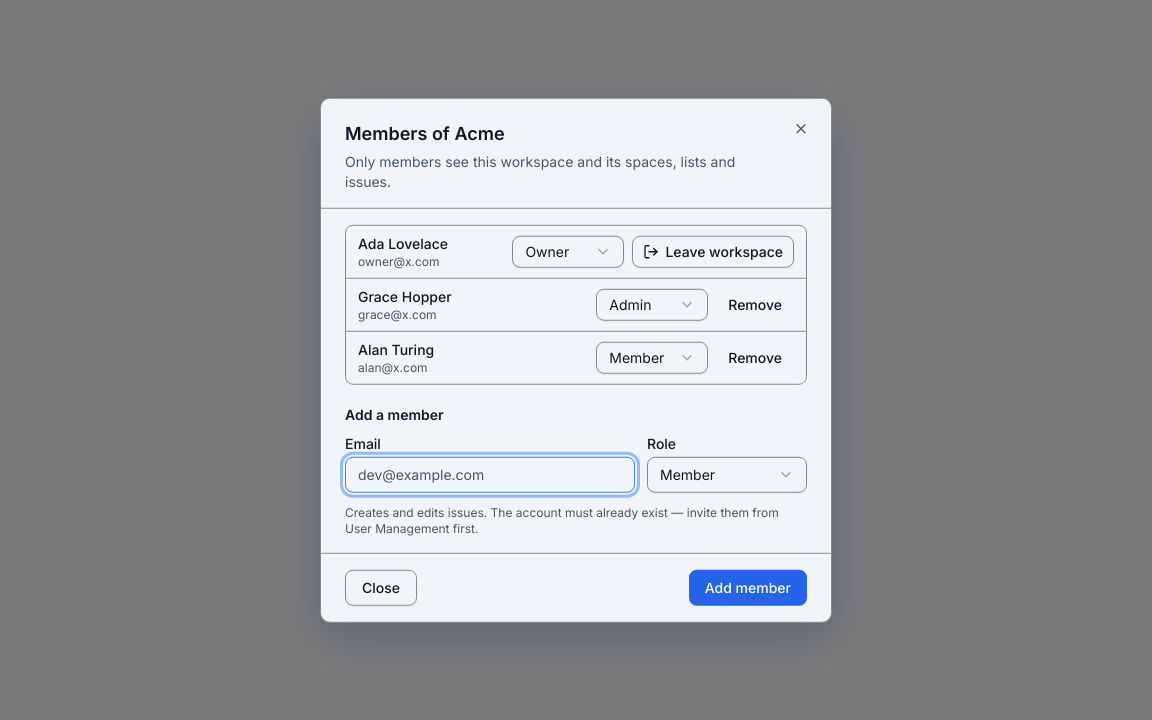
Test case: MembersDialog changing members › removes a member only after a confirm, and then puts focus on the list
Click the button with aria-label "Remove Alan Turing": (755, 357) [716,341,794,373]
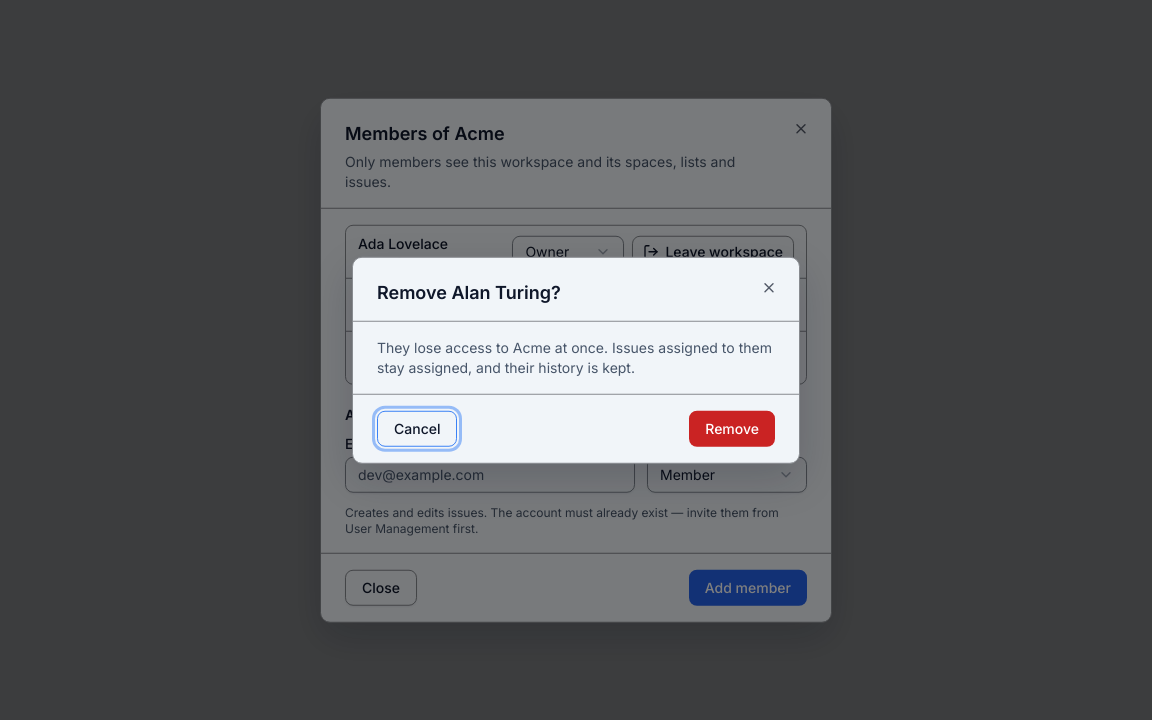
Check: the dialog "Remove Alan Turing?" shows "Issues assigned to them stay assigned, and their history is kept.", box [377,338,772,375]
Click the button "Cancel": (417, 428) [377,410,458,446]
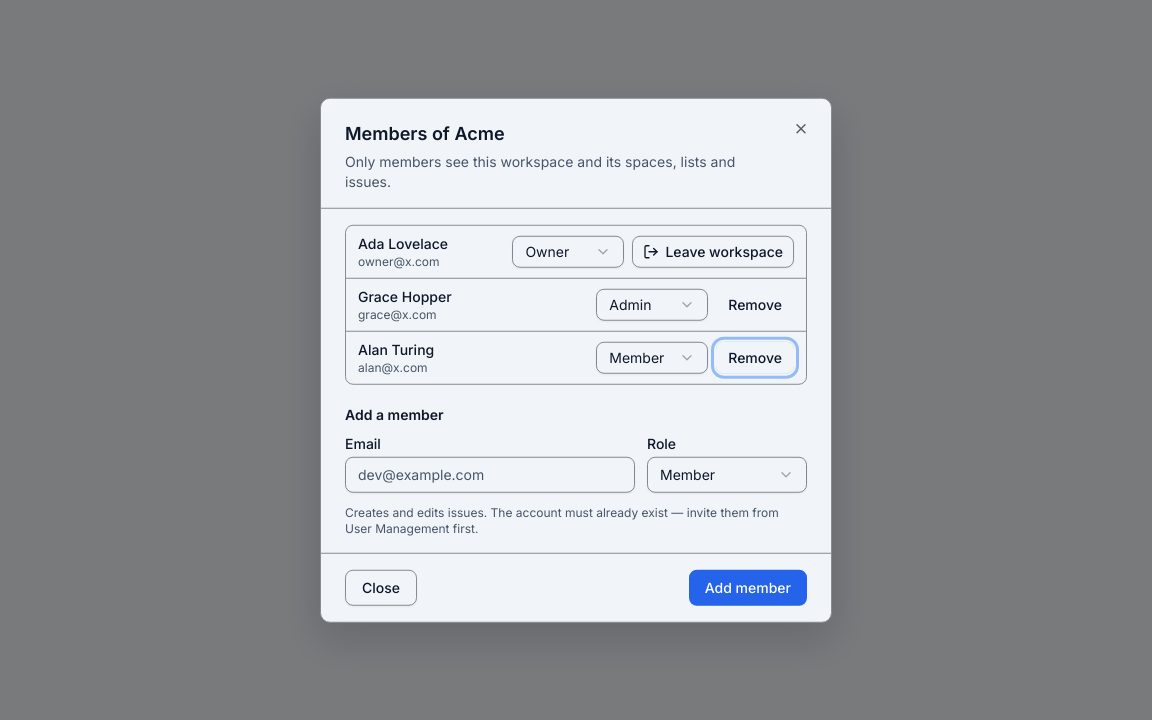
Click the button with aria-label "Remove Alan Turing": (755, 357) [716,341,794,373]
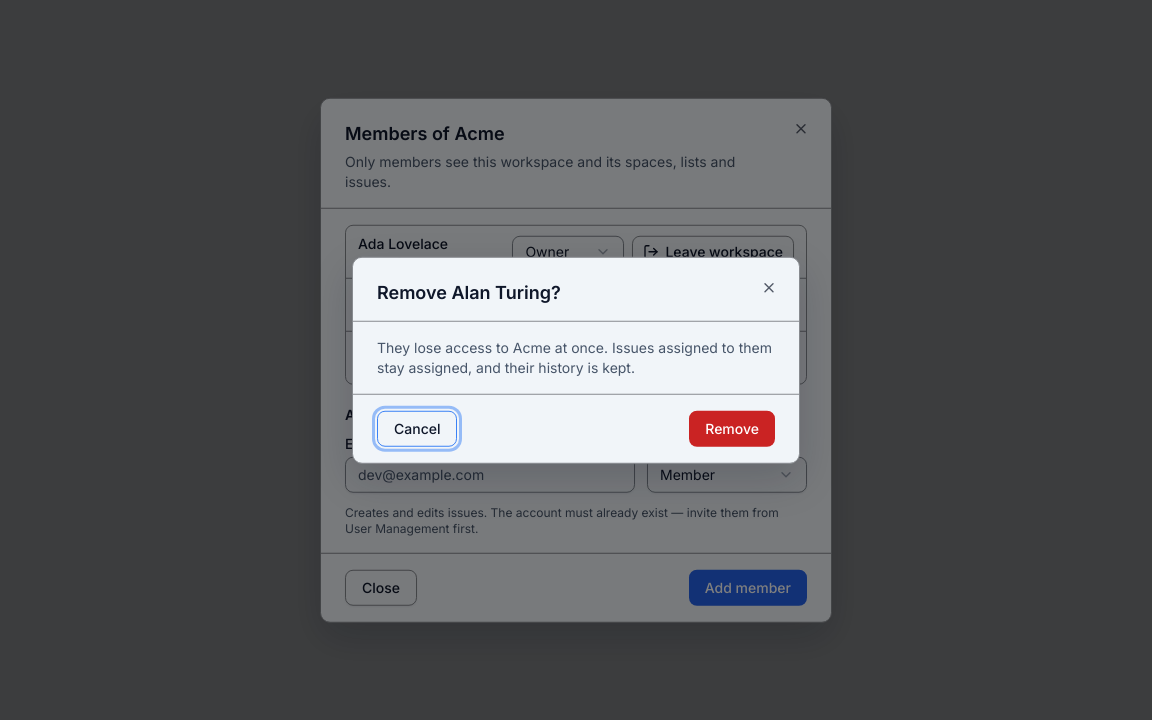
Click the button "Remove": (732, 428) [689,410,775,446]
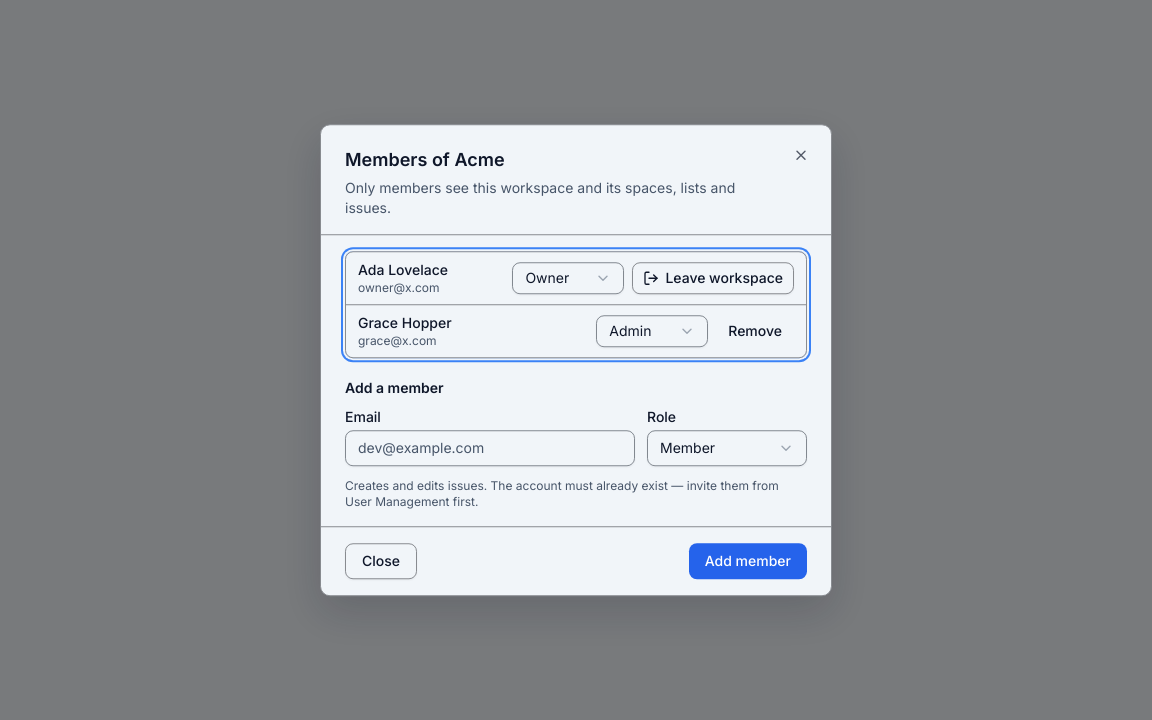
Check: the text "Alan Turing" is gone
